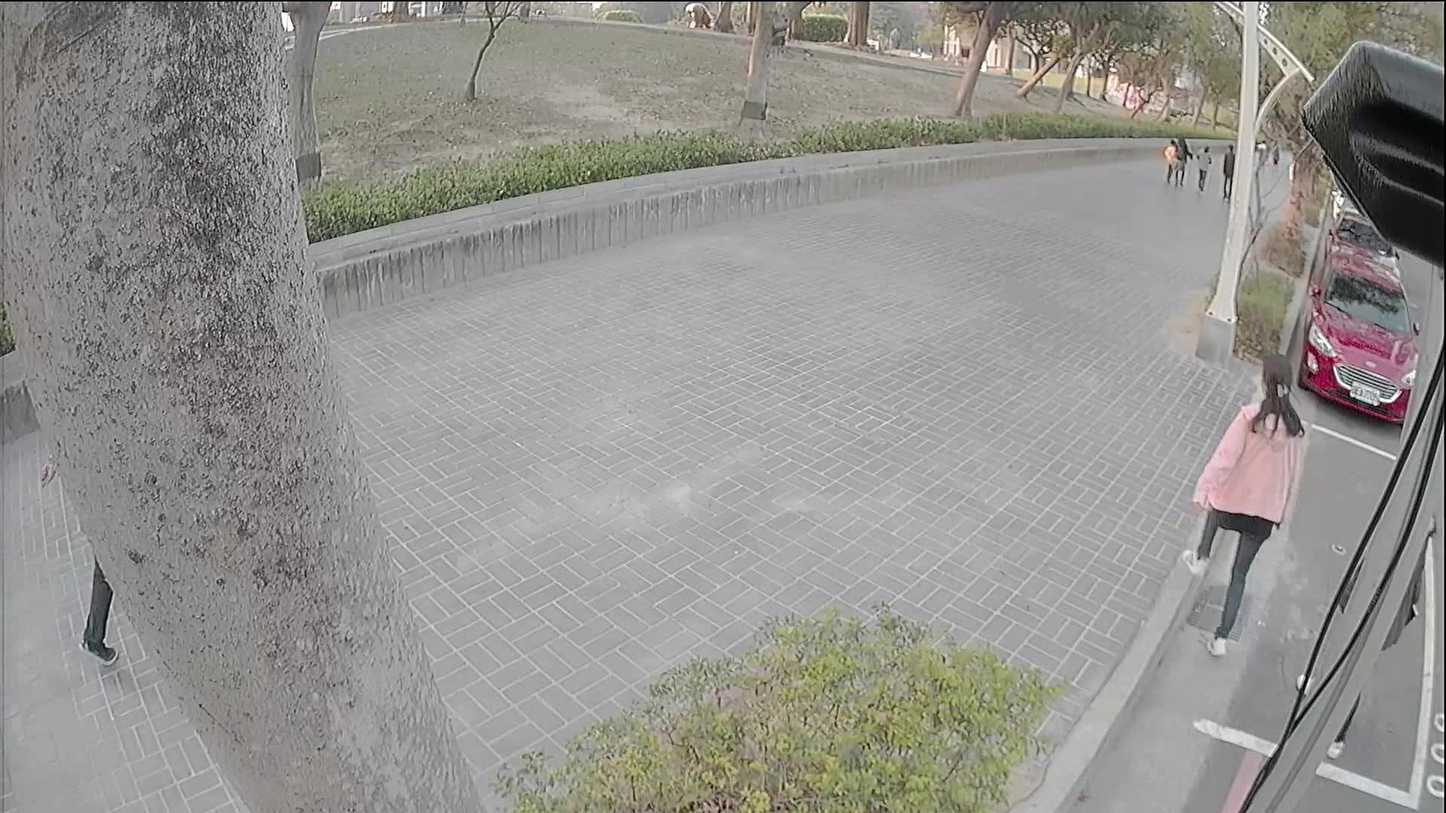person: (1182, 354, 1301, 654), (1173, 136, 1191, 184), (1159, 139, 1177, 184), (1194, 145, 1211, 189), (1221, 145, 1234, 200)
